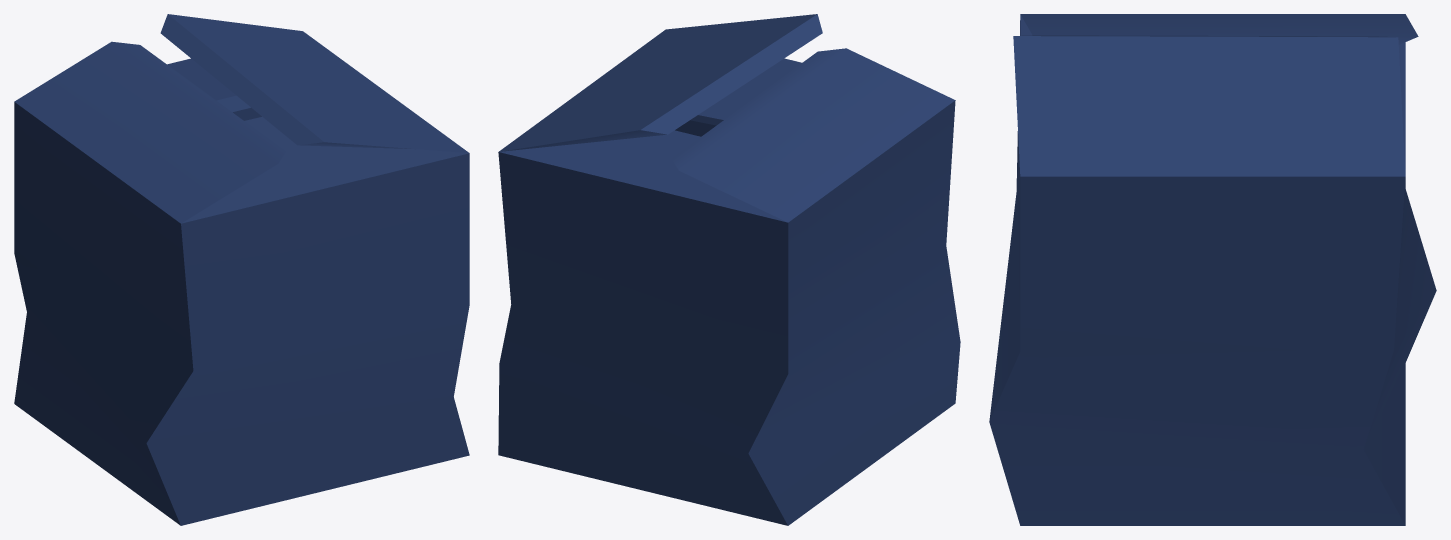
The model's file is Loot_Box1.fbx.
The picture shows the model from 3 angles, left to right: view 1: azimuth 30°, elevation 25°; view 2: azimuth 150°, elevation 25°; view 3: azimuth 270°, elevation 25°; orthographic projection. The views are drawn at different scales.
Visible parts, largest first — view 1: Cube.020; view 2: Cube.020; view 3: Cube.020.
Boxes of the visible parts, left/top/right/bottom form: Cube.020: left=14, top=14, right=469, bottom=525; Cube.020: left=498, top=14, right=960, bottom=525; Cube.020: left=989, top=14, right=1436, bottom=525.
Size of the model in its own units: 226 by 235 by 232.
